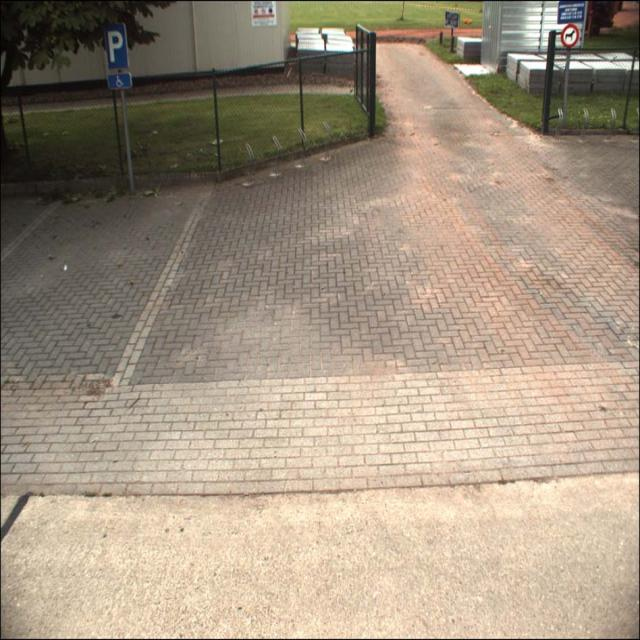park: (105, 23, 128, 69)
